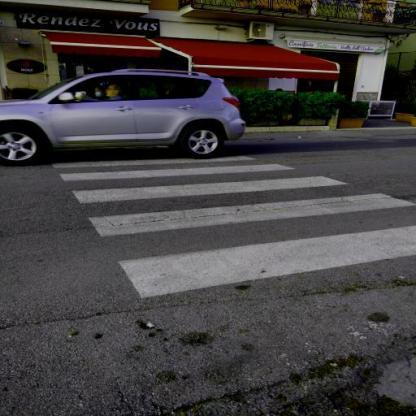crosswalk: (53, 162, 356, 207)
